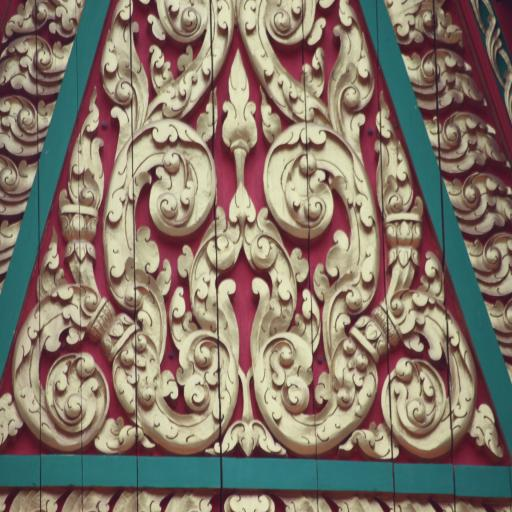la: (261, 134, 484, 466), (30, 128, 234, 458), (236, 2, 376, 136), (94, 0, 236, 126), (396, 42, 490, 111), (0, 32, 75, 93), (422, 120, 512, 169), (460, 232, 512, 306), (0, 104, 65, 147), (452, 176, 512, 221), (0, 152, 46, 206)
